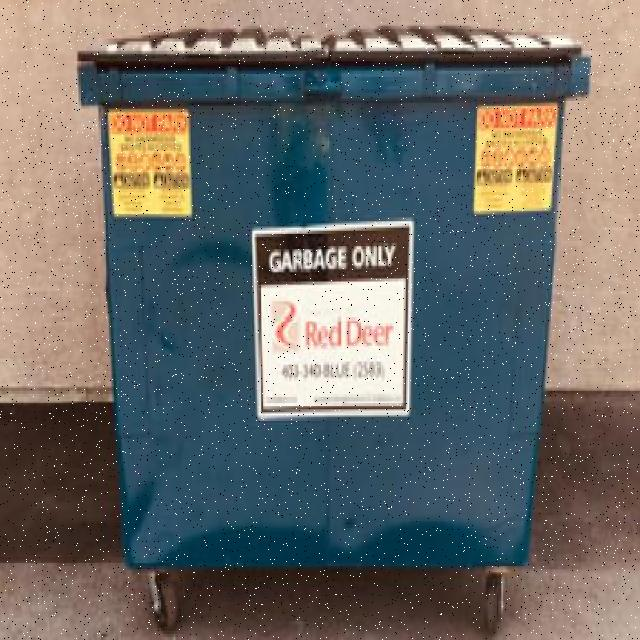garbage container: (75, 22, 603, 636)
